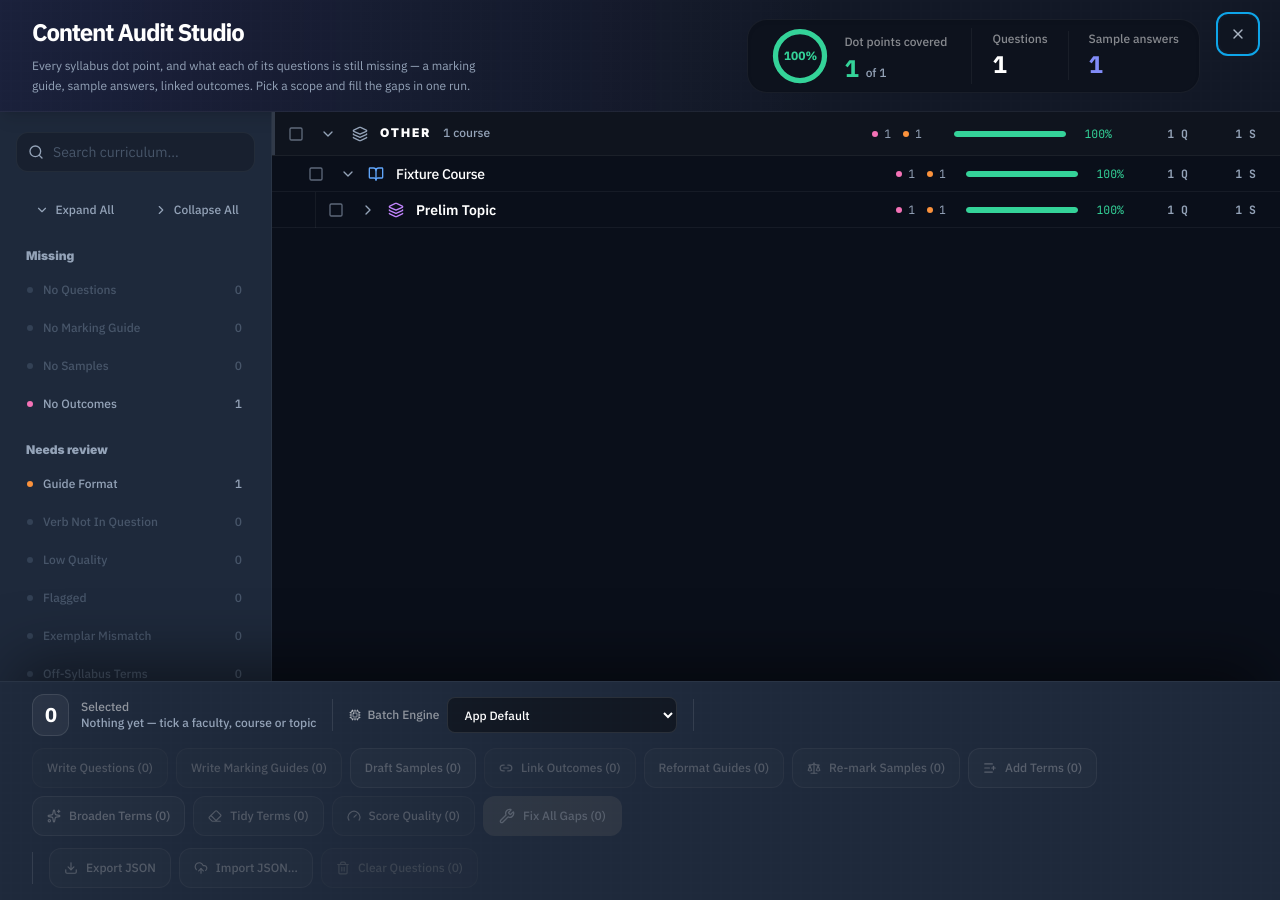
Test case: the audit reads outcome links against the question’s year › flags a Year 11 question linked only to an HSC outcome
Click the button named "Expand Prelim Topic" at (368, 210), box [356,198,380,222]
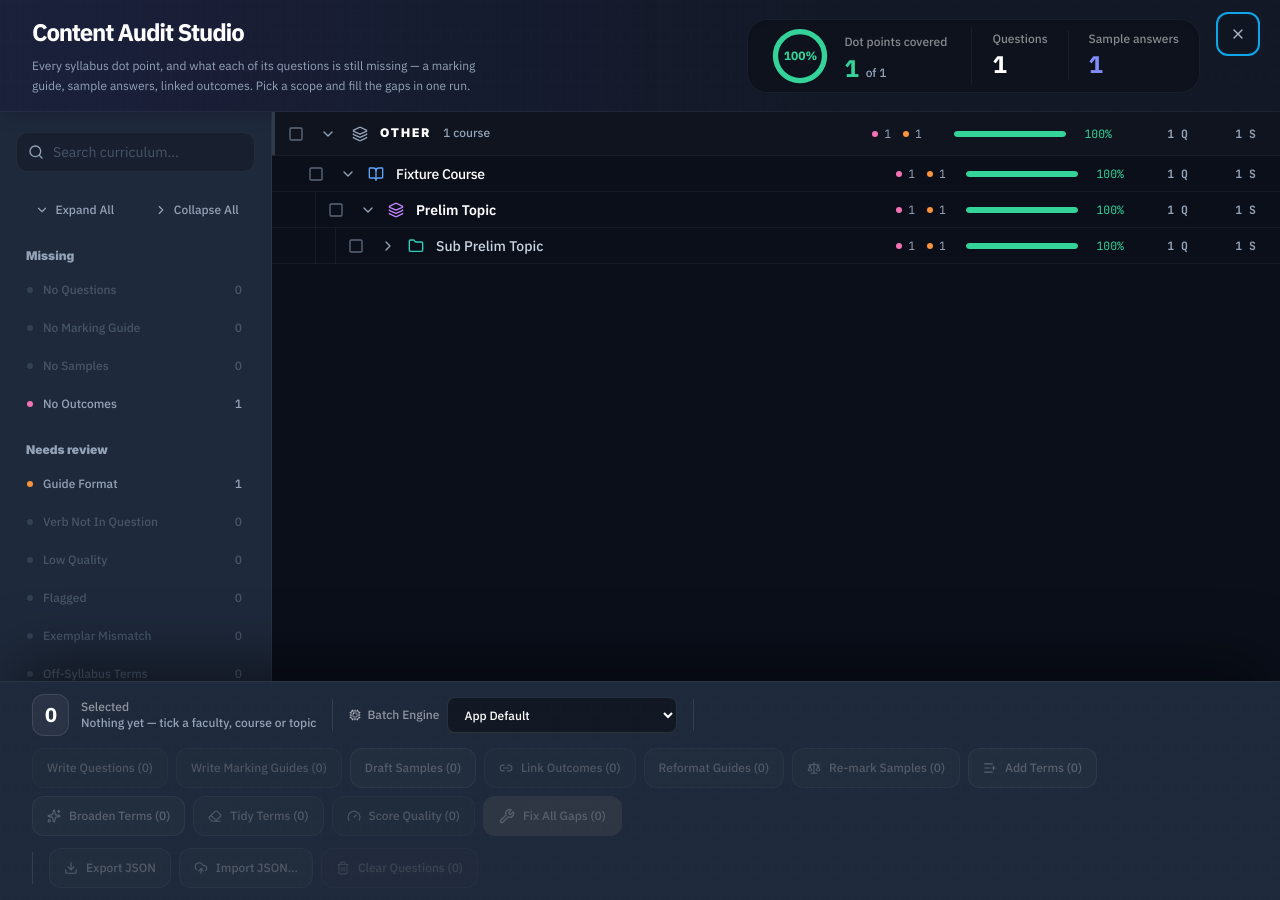
Click the button named "Expand Sub Prelim Topic" at (388, 246), box [376,234,400,258]
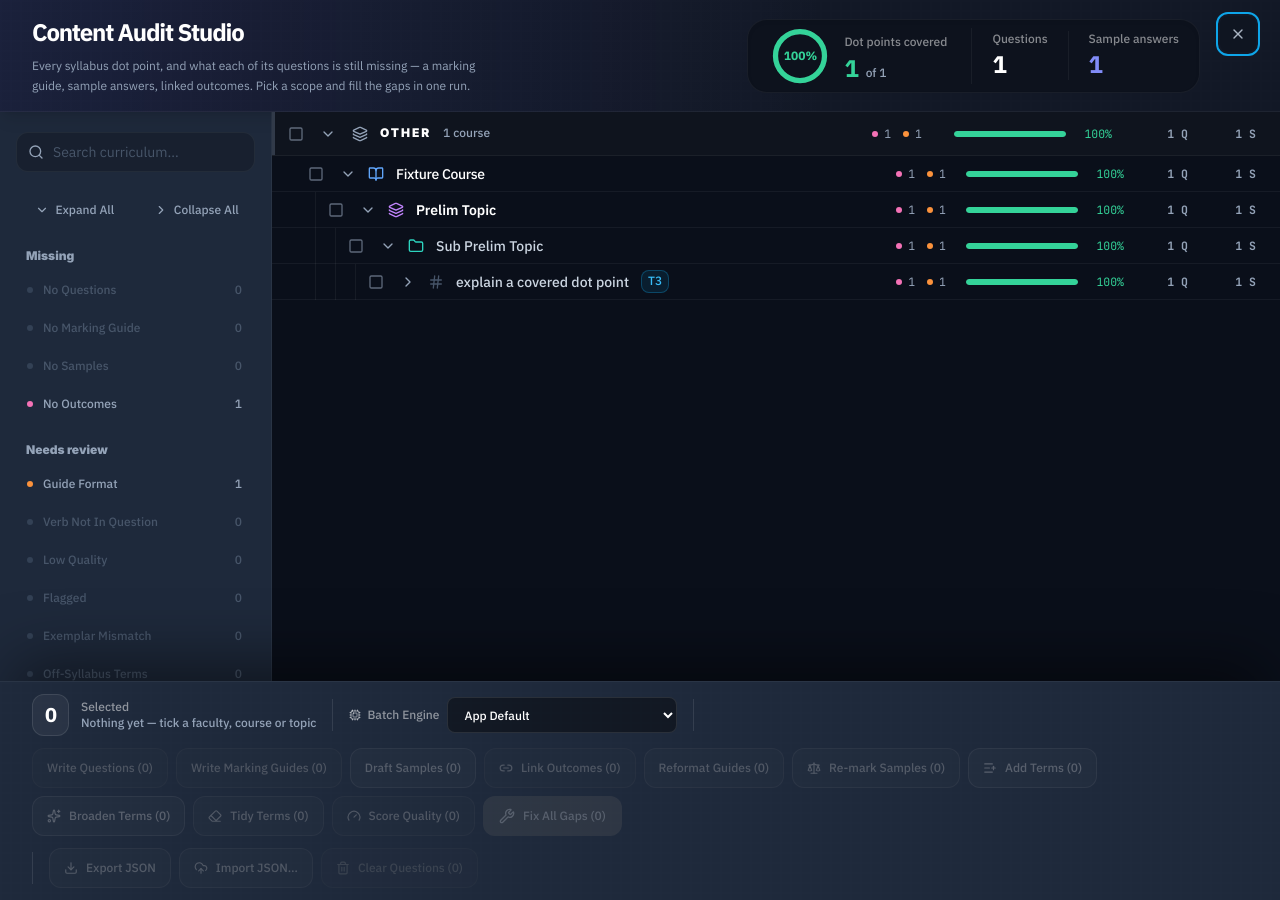
Click the button named "Expand explain a covered dot point" at (408, 282), box [396,270,420,294]
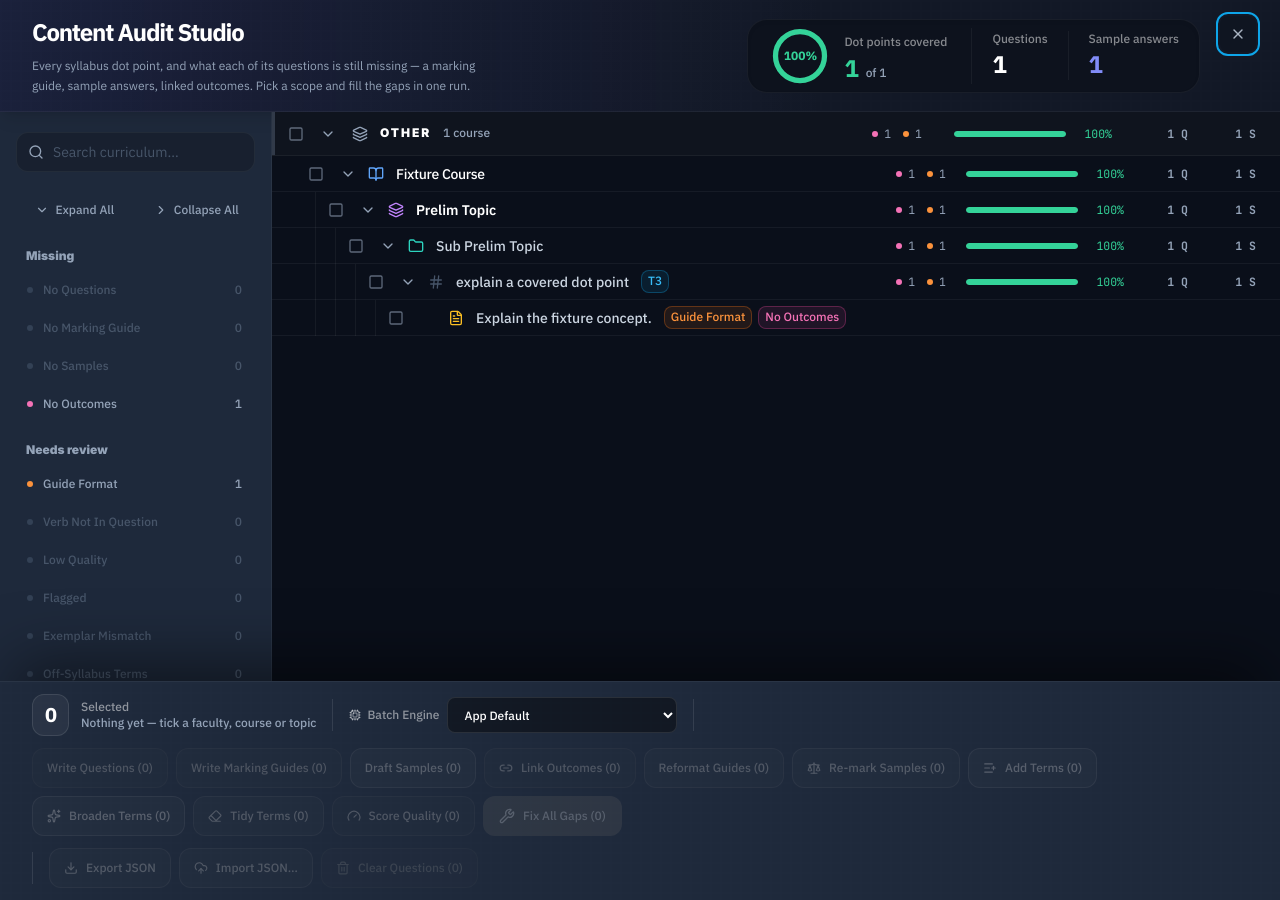
Now the text "No Outcomes" in the row of "Explain the fixture concept." is shown, box [765,309,839,324]
